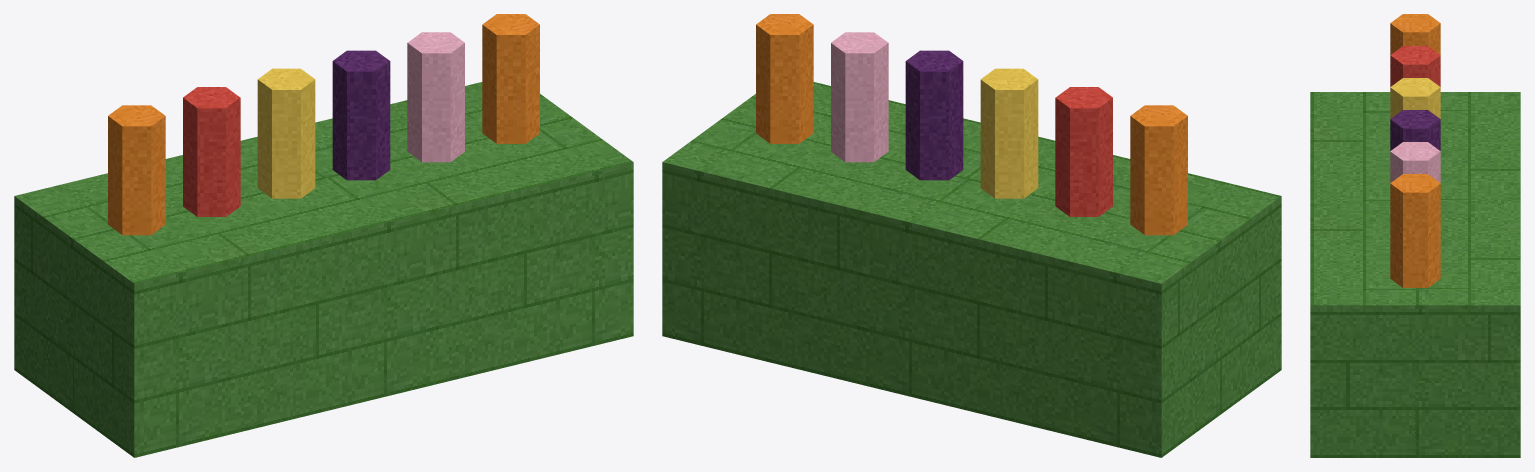
3 views of the same model, side by side, from view 1: azimuth 30°, elevation 25°; view 2: azimuth 150°, elevation 25°; view 3: azimuth 270°, elevation 25° (orthographic). The views are drawn at different scales.
Visible parts, largest first — view 1: Decor_flower_stand; view 2: Decor_flower_stand; view 3: Decor_flower_stand.
Boxes of the visible parts, x1,y1,x2,y2 form: Decor_flower_stand: (14,14,633,457); Decor_flower_stand: (662,14,1281,457); Decor_flower_stand: (1310,14,1520,457).
Size of the model in its own units: 2.4 by 1.3 by 1.
Materials: 6 (6 with a texture image).
